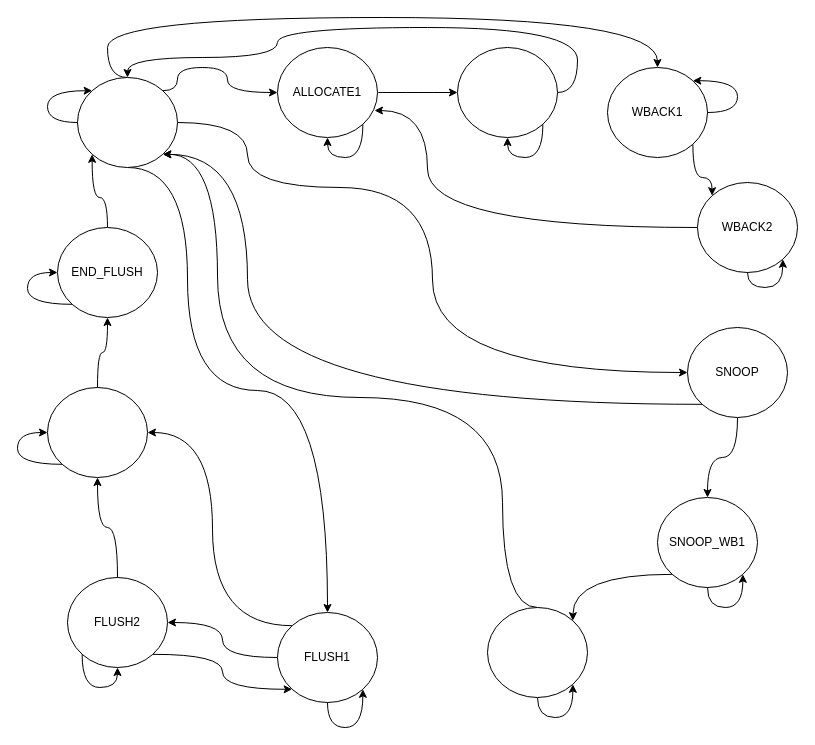
Image size: 815x745. Some labels were removed from this diagram. The centre of each missing label's shape, as x and y in pixels:
"ALLOCATE2" goes at point (507, 92).
"HIT_CNT" goes at point (97, 432).
"IDLE" goes at point (127, 122).
"SNOOP_WB2" goes at point (537, 652).
